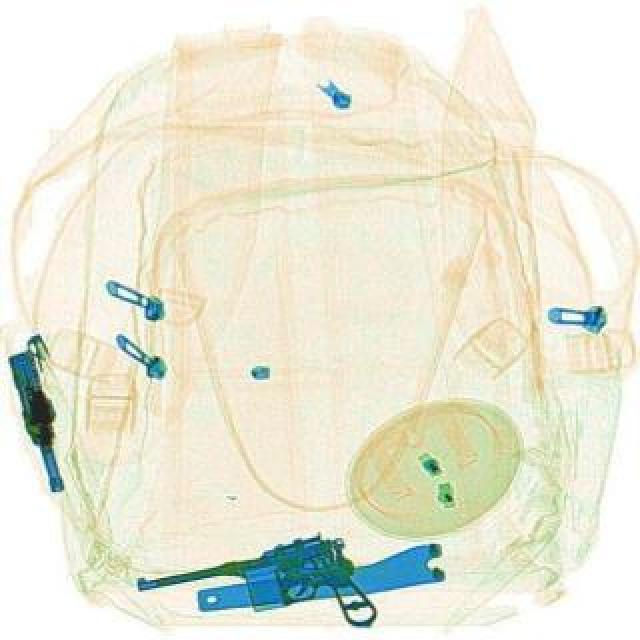gun: (134, 530, 358, 634), (4, 346, 74, 494)
